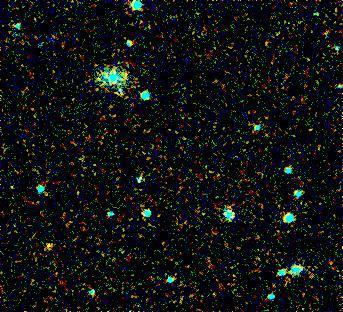star: (33, 229, 63, 259)
